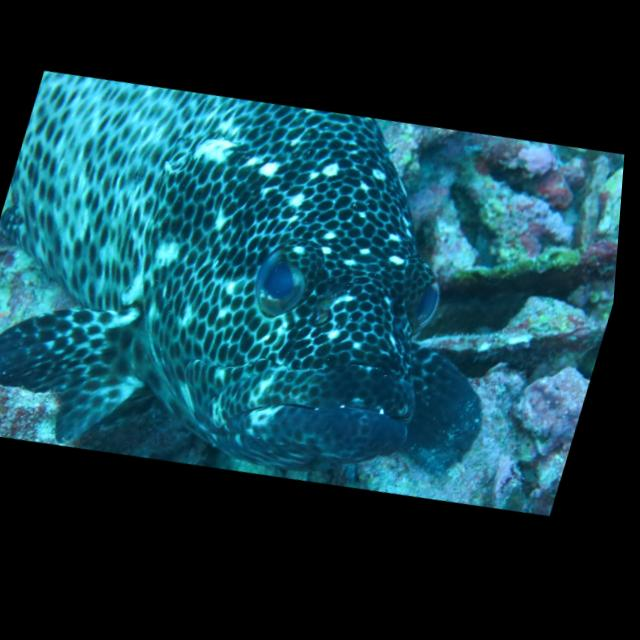Groupers: (0, 20, 581, 547)
